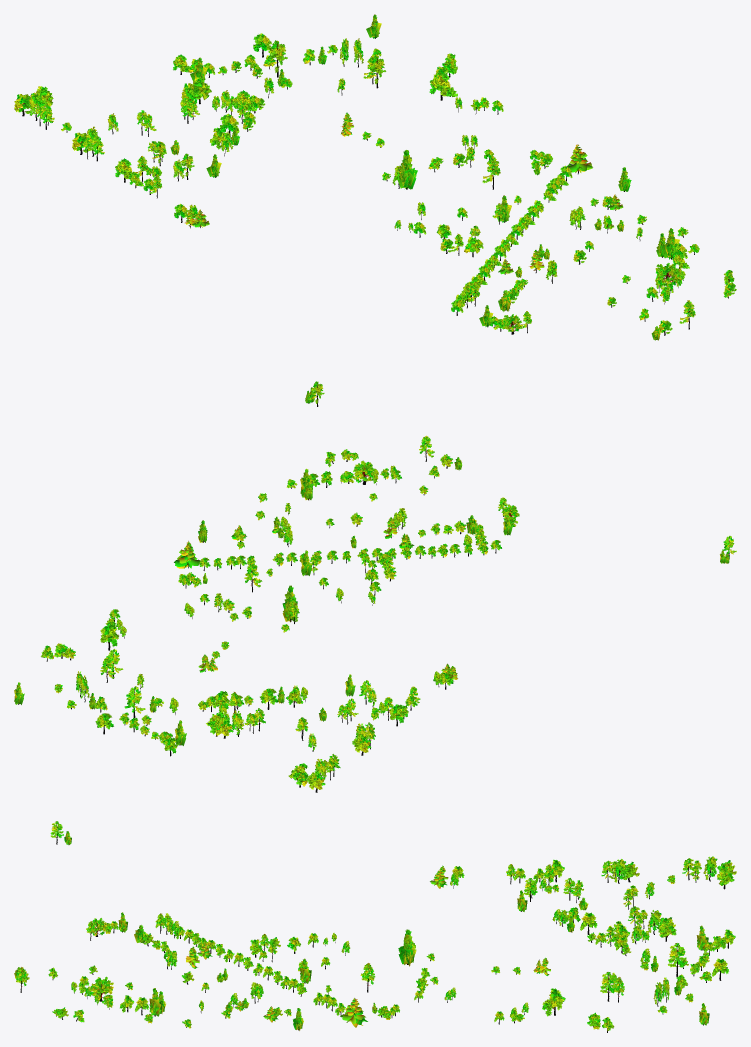
The model's file is altdorf_Vegetation_v6.fbx.
3 views of the same model, one above another, from view 1: azimuth 30°, elevation 25°; view 2: azimuth 150°, elevation 25°; view 3: azimuth 270°, elevation 25° (orthographic). The views are drawn at different scales.
Visible parts, largest first — view 1: no part large enough to name; view 2: no part large enough to name; view 3: cypress 3.004, spruce 5.003, linden based 1.007, oak 7.001, pine 3.005.
Part boxes in pixels (x1,y1,x2,y2): cypress 3.004: (398,929,416,966); spruce 5.003: (340,998,367,1027); linden based 1.007: (542,988,565,1016); oak 7.001: (90,976,113,1001); pine 3.005: (668,943,687,976).
Bounding box in the file's own units: 26814 × 2637 × 41173.
